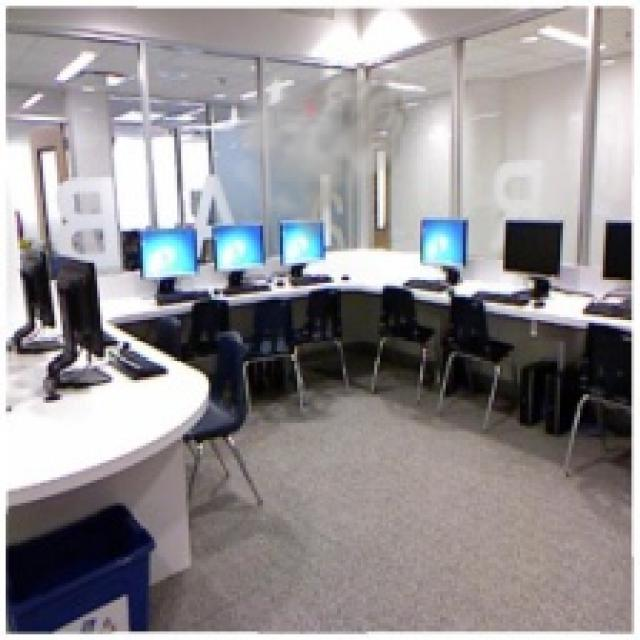smoke: (225, 48, 426, 248)
